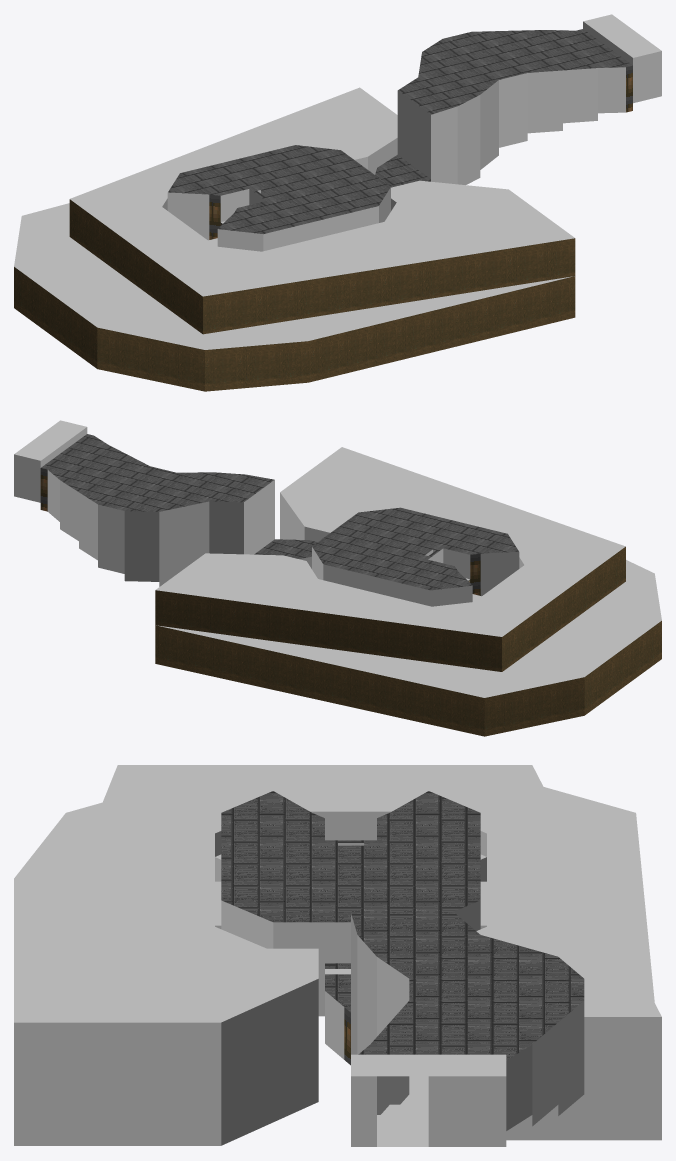
The model's file is untitled_room5.fbx.
3 renders of one model, top to bottom at view 1: azimuth 30°, elevation 25°; view 2: azimuth 150°, elevation 25°; view 3: azimuth 270°, elevation 25°, orthographic. The views are drawn at different scales.
Parts seen in each view (by area): view 1: E1M2; view 2: E1M2; view 3: E1M2.
Part boxes in pixels (<box>): E1M2: <box>14,14,661,391</box>; E1M2: <box>14,420,661,736</box>; E1M2: <box>14,765,661,1146</box>.
Size of the model in its own units: 134400 by 31200 by 80000.
